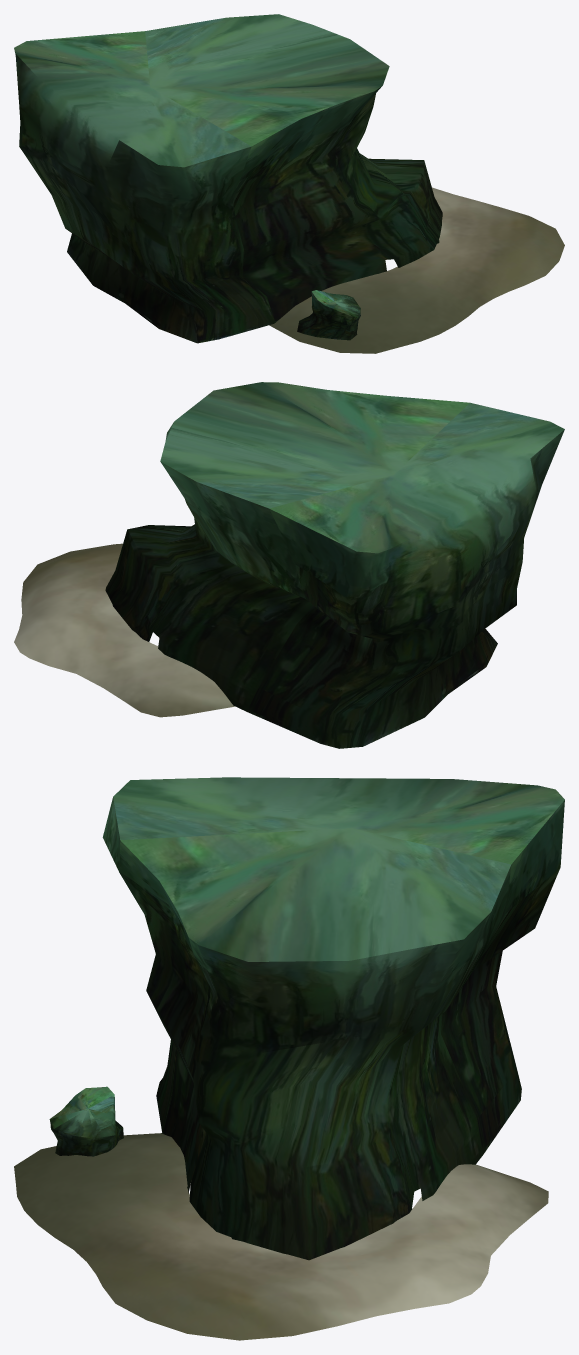
Rendered from pir_m_are_isl_devilsAnvil.fbx.
3 views of the same model, one above another, from view 1: azimuth 30°, elevation 25°; view 2: azimuth 150°, elevation 25°; view 3: azimuth 270°, elevation 25° (orthographic). The views are drawn at different scales.
Visible parts, largest first — view 1: hill_anvil, ground, hill_small; view 2: hill_anvil, ground; view 3: hill_anvil, ground, hill_small.
Boxes of the visible parts, <box> form: hill_anvil: <box>14,14,442,343</box>; ground: <box>269,187,564,353</box>; hill_small: <box>297,290,360,340</box>; hill_anvil: <box>105,382,564,748</box>; ground: <box>14,543,235,717</box>; hill_anvil: <box>102,777,564,1260</box>; ground: <box>14,1133,548,1340</box>; hill_small: <box>49,1086,123,1156</box>.
Size of the model in its own units: 149694 by 62596 by 114583.
Materials: 2 (2 with a texture image).
